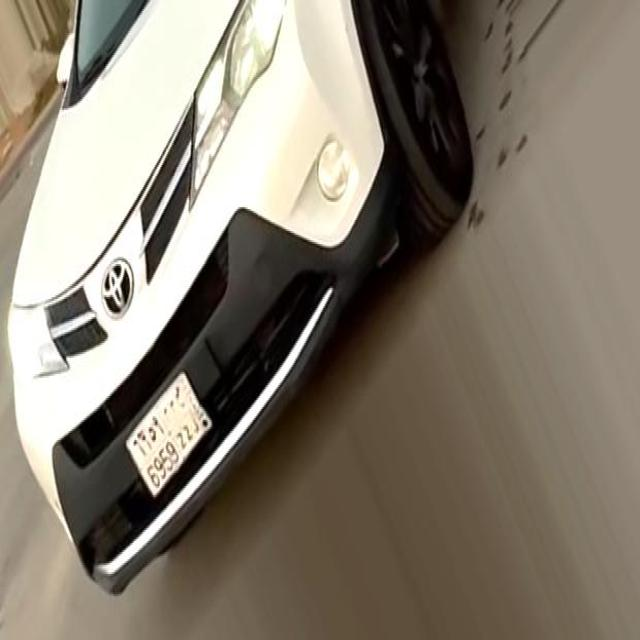Car-plate: (117, 339, 224, 515)
